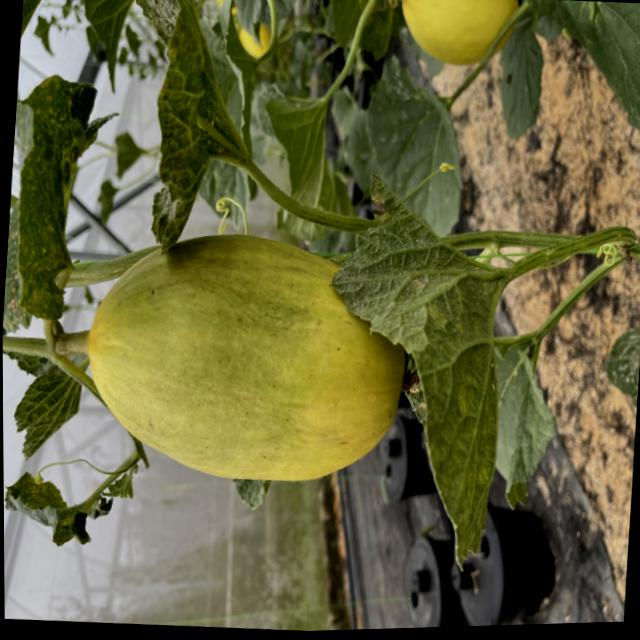SLCV: (314, 172, 531, 574), (108, 0, 228, 269), (1, 65, 107, 340), (3, 337, 92, 472)
bacterial wilt: (3, 466, 100, 553)
